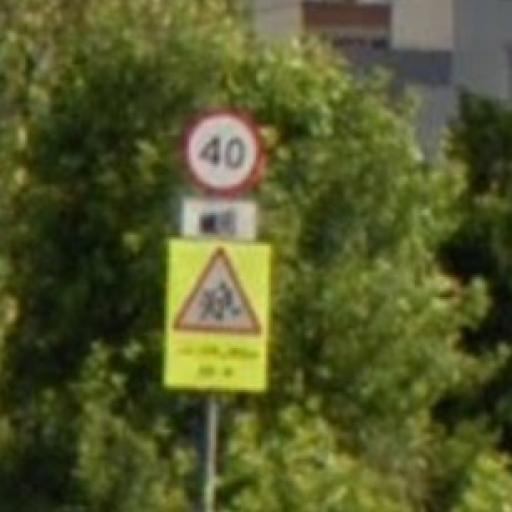traffic_sign: (172, 247, 265, 342), (182, 110, 265, 200)
